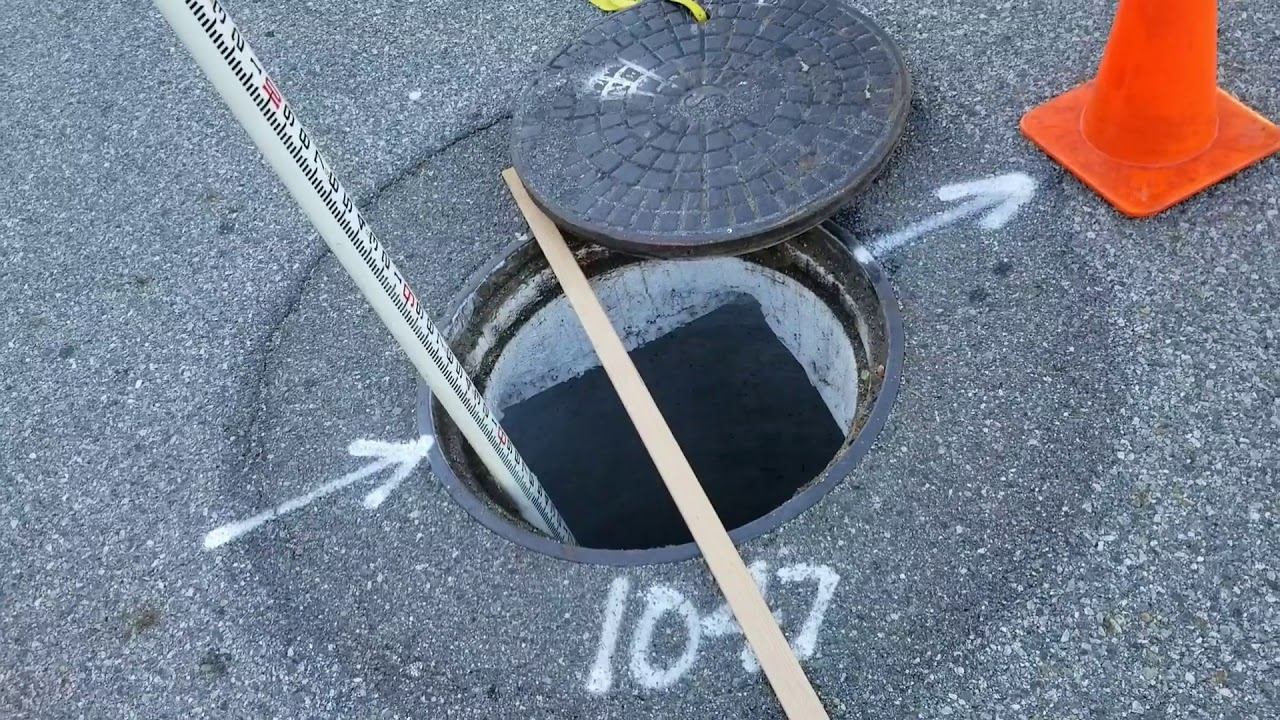Open_manhole: (275, 17, 1016, 579)
Road_cone: (996, 9, 1279, 232)
